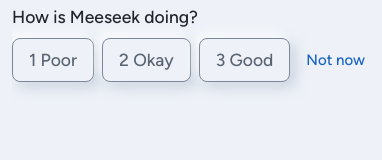
Test: RatingPrompt › a failed pick keeps the prompt with an inline retry message
Click the radio button labelled "3 Good": click(245, 60) [199,38,290,82]
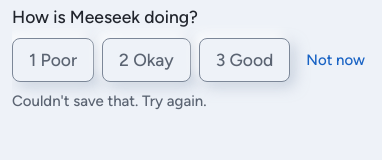
expect the number of radio buttons is 3: met, box [12,38,94,82]; [102,38,191,82]; [199,38,290,82]
expect the text "Couldn't save that. Try again." is shown: met, box [12,92,206,110]
